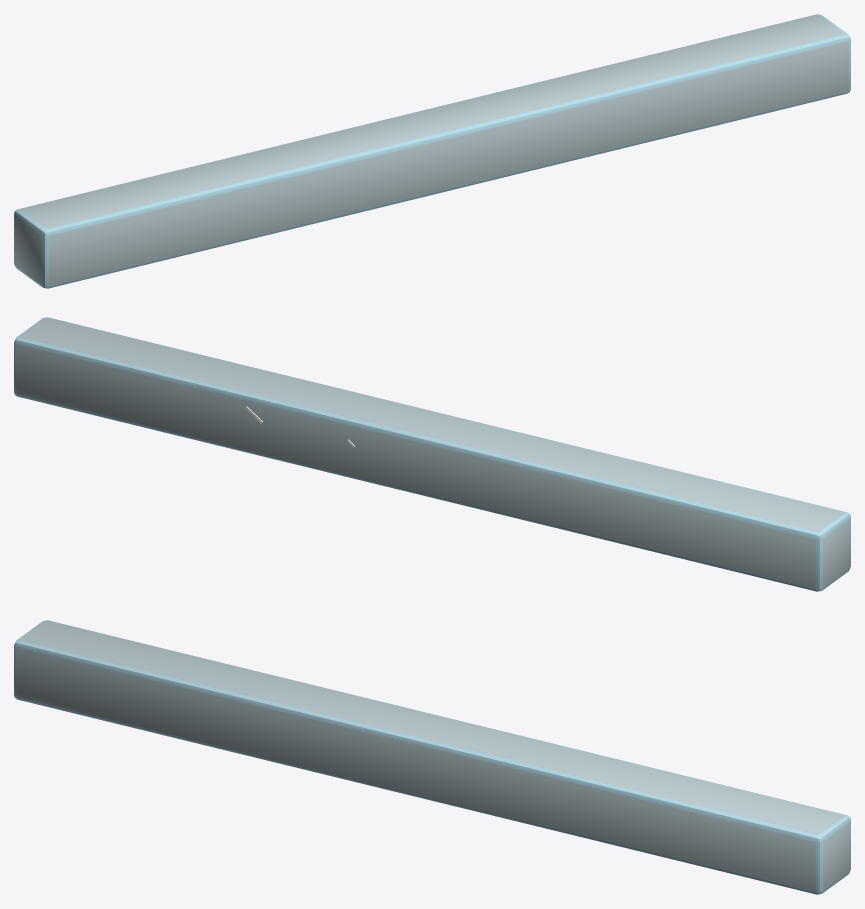
File: PlankLargeIce.fbx
3 renders of one model, top to bottom at view 1: azimuth 30°, elevation 25°; view 2: azimuth 150°, elevation 25°; view 3: azimuth 330°, elevation 25°, orthographic.
Visible parts, largest first — view 1: PlankLargeIce; view 2: PlankLargeIce; view 3: PlankLargeIce.
Boxes of the visible parts, x1,y1,x2,y2 form: PlankLargeIce: (14,14,850,288); PlankLargeIce: (14,317,850,591); PlankLargeIce: (14,620,850,894).
Size of the model in its own units: 19.95 by 1.4 by 1.43.
